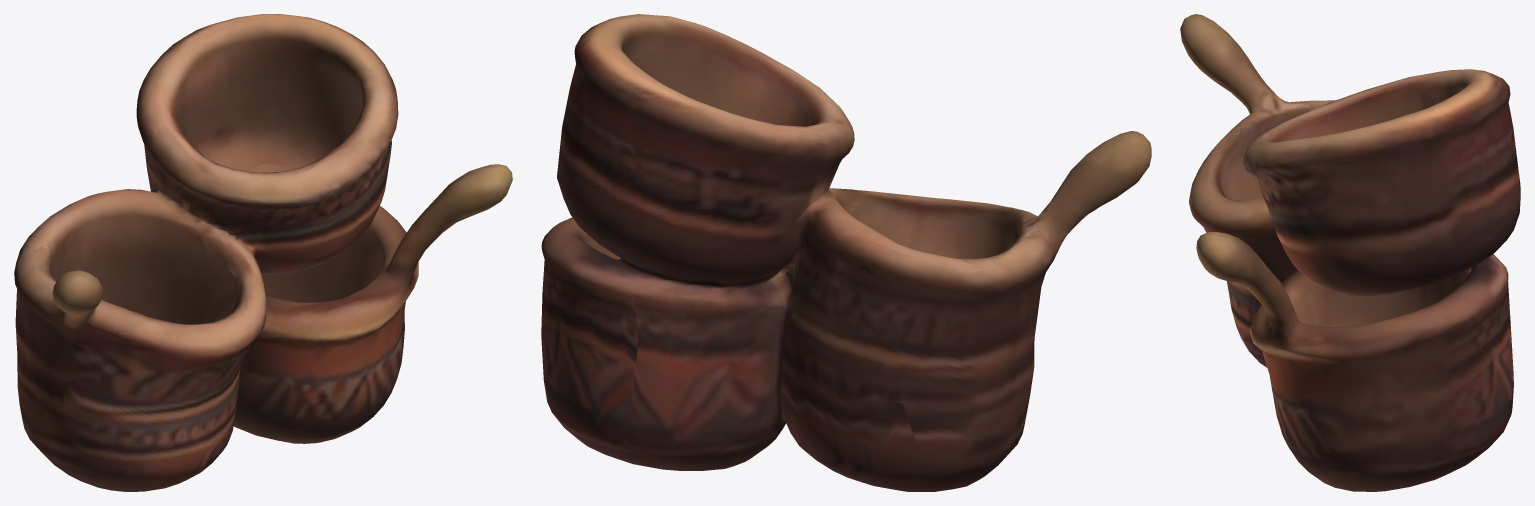
Rendered from v14_potes_pequenos.glb.
The picture shows the model from 3 angles, left to right: view 1: azimuth 30°, elevation 25°; view 2: azimuth 150°, elevation 25°; view 3: azimuth 270°, elevation 25°; orthographic projection. The views are drawn at different scales.
Parts seen in each view (by area): view 1: v14_potes_pequenos; view 2: v14_potes_pequenos; view 3: v14_potes_pequenos.
Boxes of the visible parts, x1,y1,x2,y2 form: v14_potes_pequenos: (14, 14, 512, 491); v14_potes_pequenos: (541, 14, 1151, 491); v14_potes_pequenos: (1180, 14, 1520, 491).
Bounding box in the file's own units: 0.5331 × 0.4114 × 0.3301.
Materials: 1 (1 with a texture image).
